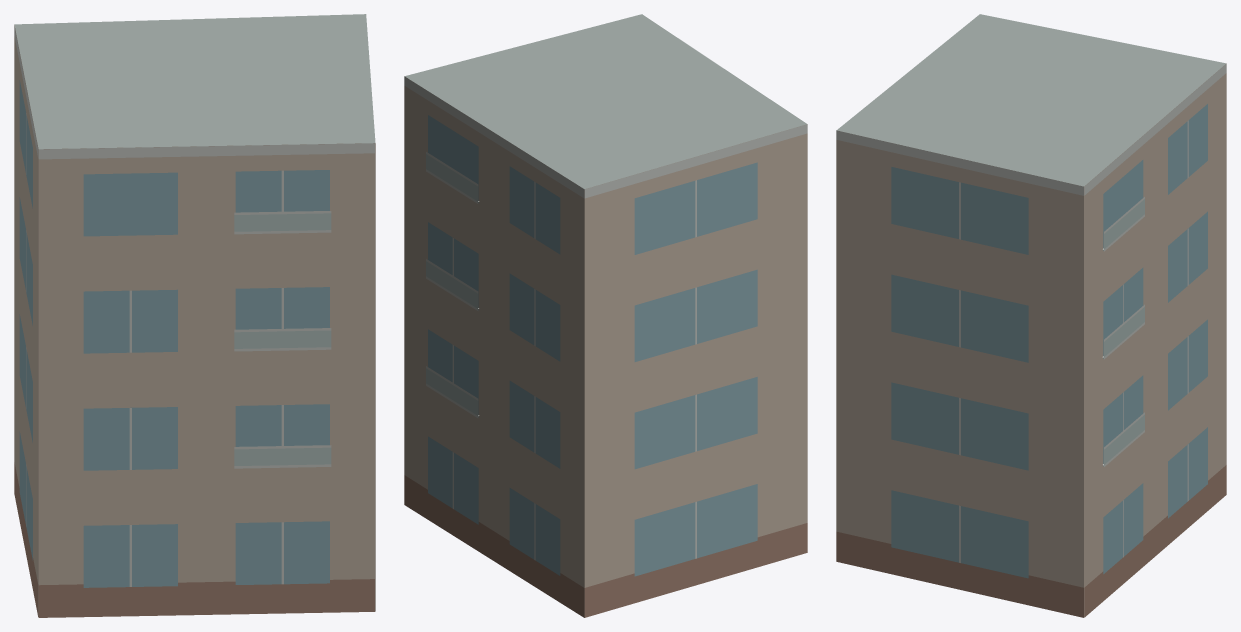
Rendered from survey-upis-32729577.glb.
3 views of the same model, side by side, from view 1: azimuth 30°, elevation 25°; view 2: azimuth 150°, elevation 25°; view 3: azimuth 270°, elevation 25° (orthographic). The views are drawn at different scales.
Parts seen in each view (by area): view 1: survey-upis-32729577.tmp; view 2: survey-upis-32729577.tmp; view 3: survey-upis-32729577.tmp.
Boxes of the visible parts, x1,y1,x2,y2 form: survey-upis-32729577.tmp: [14, 14, 375, 617]; survey-upis-32729577.tmp: [404, 14, 807, 617]; survey-upis-32729577.tmp: [836, 14, 1226, 617].
Bounding box in the file's own units: 9.62 × 11.2 × 9.19.
